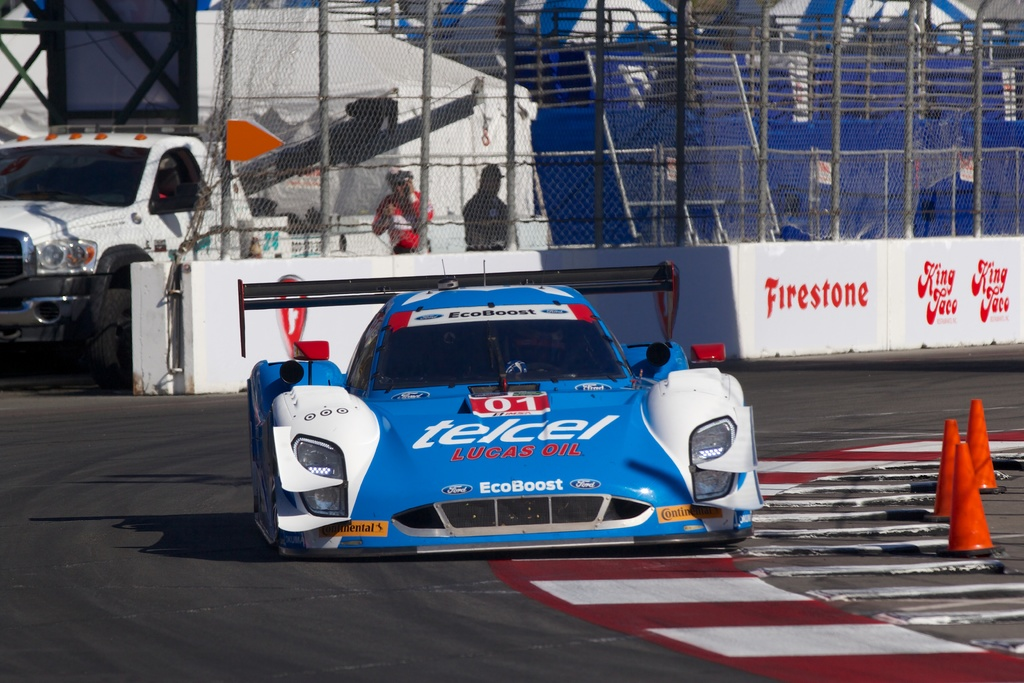Car: (234, 260, 769, 558)
